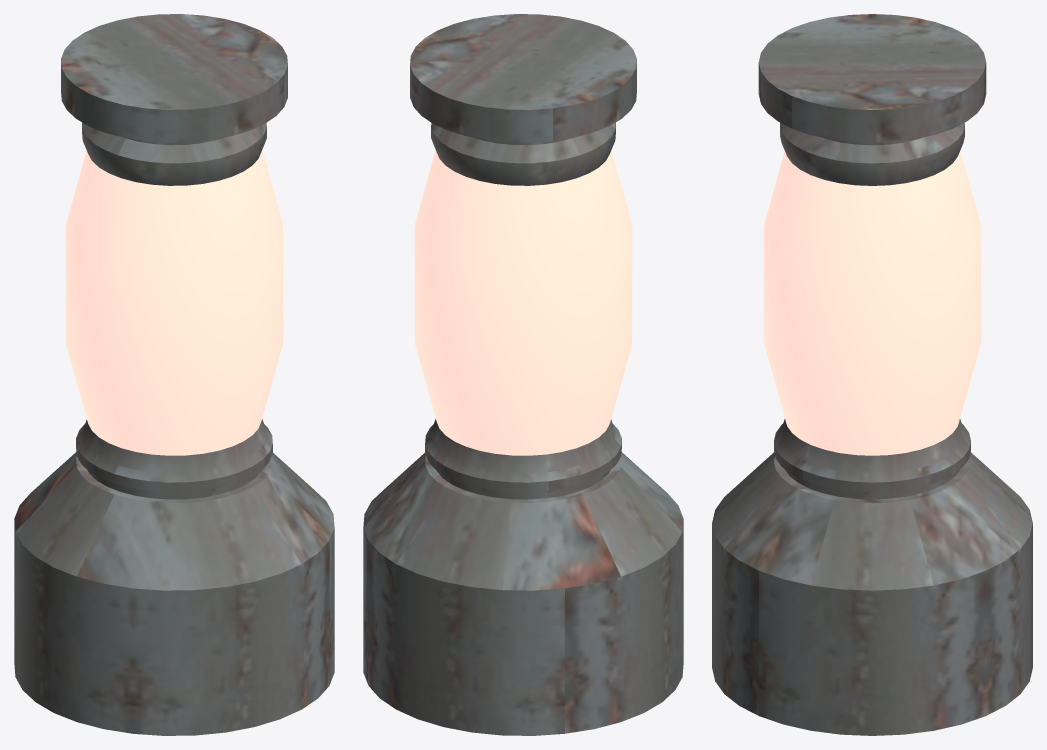
Rendered from EB_ReactorUnstable.fbx.
The picture shows the model from 3 angles, left to right: view 1: azimuth 30°, elevation 25°; view 2: azimuth 150°, elevation 25°; view 3: azimuth 270°, elevation 25°; orthographic projection.
Visible parts, largest first — view 1: ReactorOn; view 2: ReactorOn; view 3: ReactorOn.
Boxes of the visible parts, bbox=[...] form: ReactorOn: bbox=[14, 14, 334, 735]; ReactorOn: bbox=[363, 14, 683, 735]; ReactorOn: bbox=[712, 14, 1032, 735].
Size of the model in its own units: 325 by 679 by 325.
